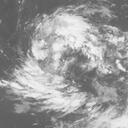cyclone: (29, 11, 103, 78)
